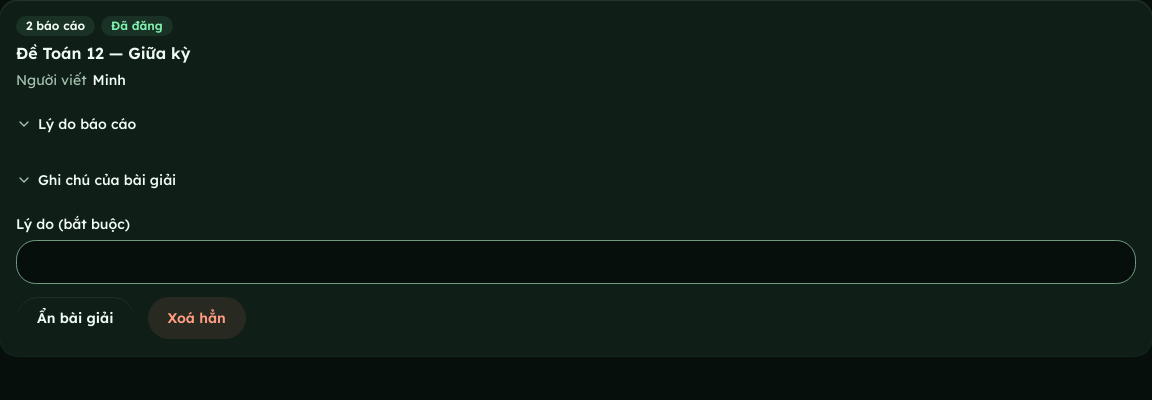
Test case: ReportedSolutionRow — Proof Obligation #2 (AC-082 / AC-106) › lý do rỗng + 'Ẩn bài giải' → alert 'Bạn hãy nhập lý do.', 0 lần gọi
Click the button "Ẩn bài giải" at (75, 318), box [16,296,134,340]
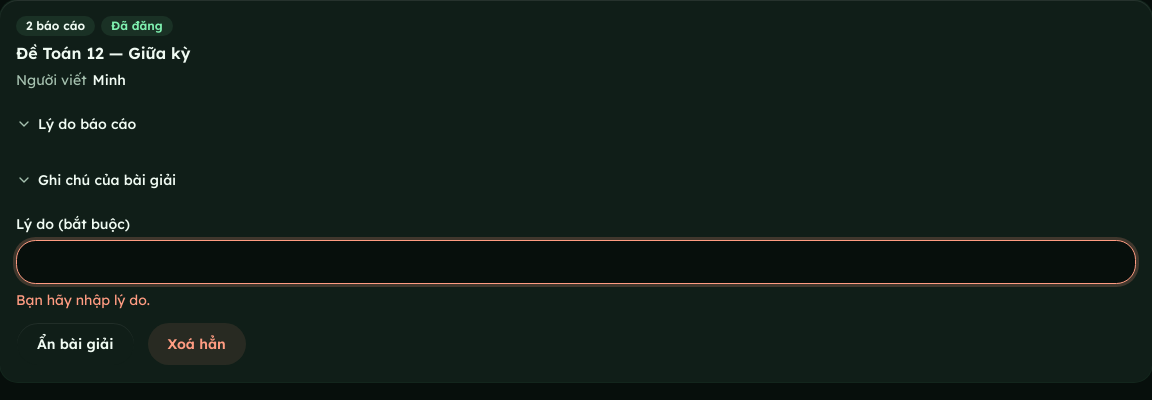
Expected: the message reads "Bạn hãy nhập lý do.", [16,291,150,309]
